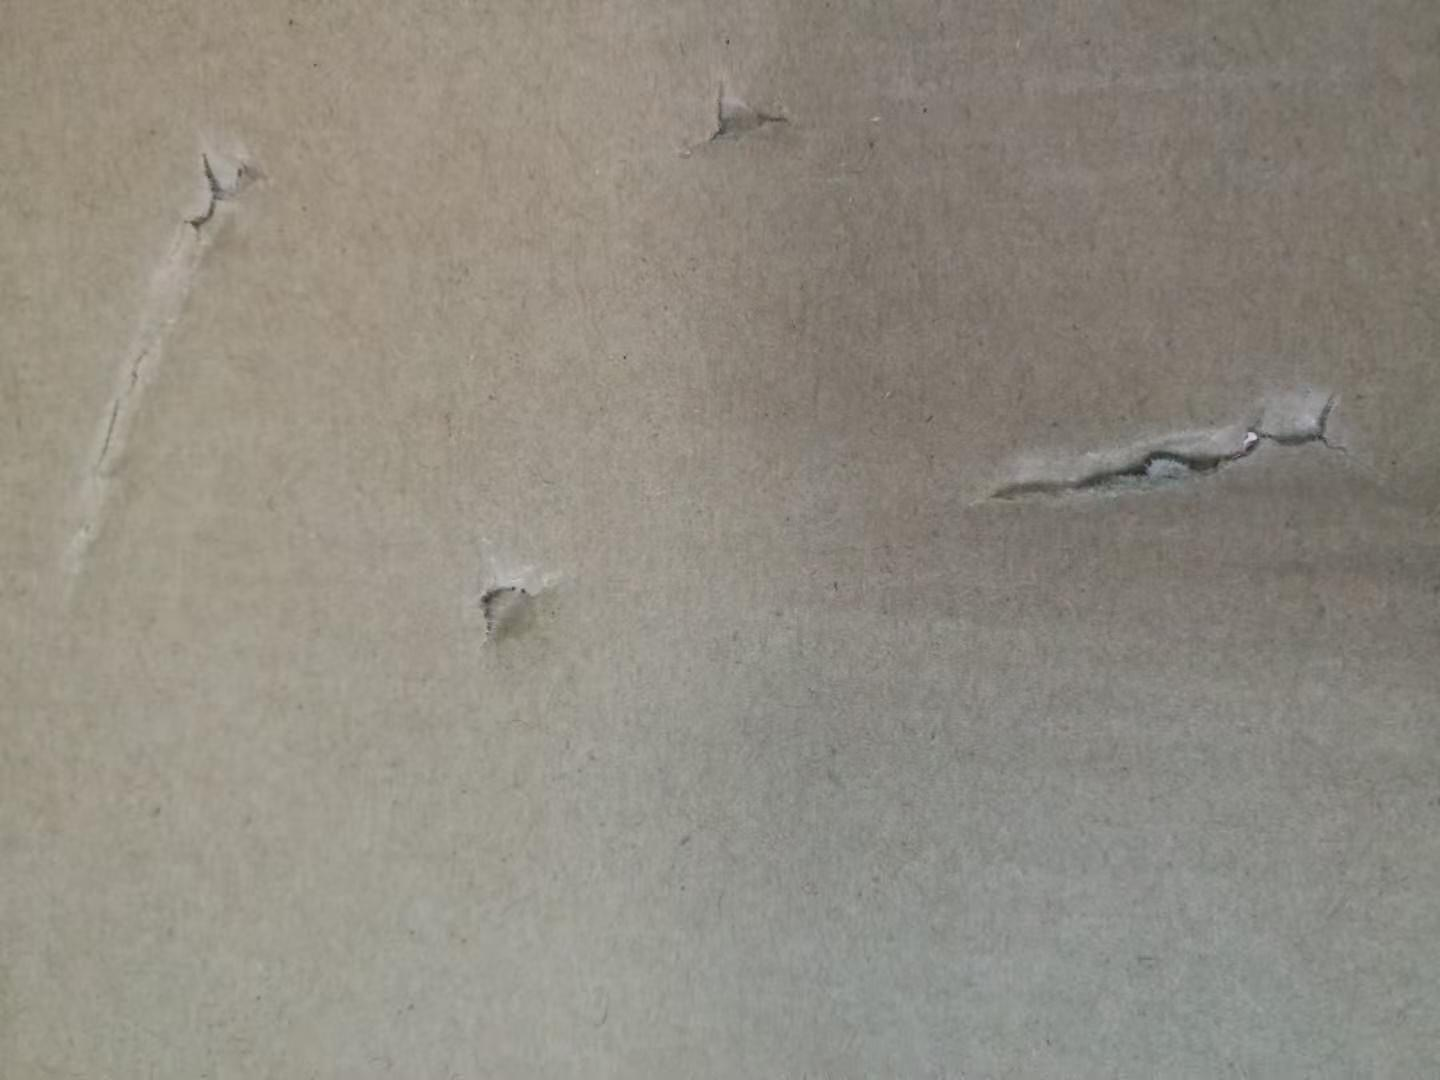defect: (27, 100, 291, 615), (935, 352, 1394, 528), (443, 509, 579, 698), (650, 48, 825, 187)
